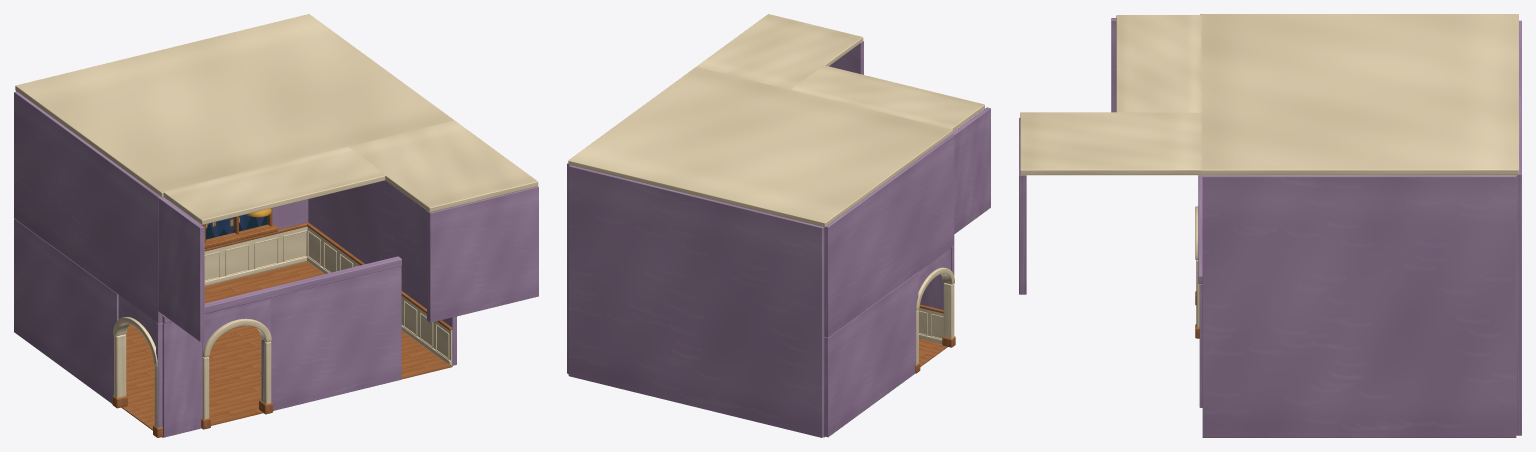
Rendered from V5_LivingArchitecture.fbx.
3 renders of one model, left to right at view 1: azimuth 30°, elevation 25°; view 2: azimuth 150°, elevation 25°; view 3: azimuth 270°, elevation 25°, orthographic. The views are drawn at different scales.
Visible parts, largest first — view 1: V5_LivingArchitecture; view 2: V5_LivingArchitecture; view 3: V5_LivingArchitecture.
Part boxes in pixels (x1=…): V5_LivingArchitecture: x1=14, y1=14, x2=538, y2=437; V5_LivingArchitecture: x1=567, y1=14, x2=990, y2=437; V5_LivingArchitecture: x1=1019, y1=14, x2=1521, y2=437.
Size of the model in its own units: 7.46 by 5.84 by 9.94.
4 materials, 3 textured.
